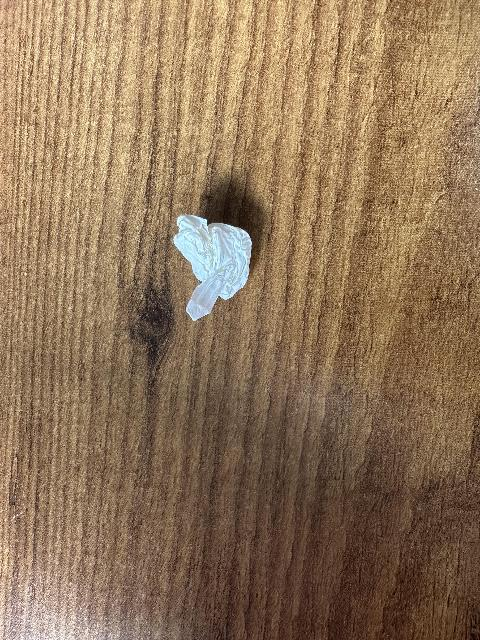Kagit: (168, 214, 260, 321)
